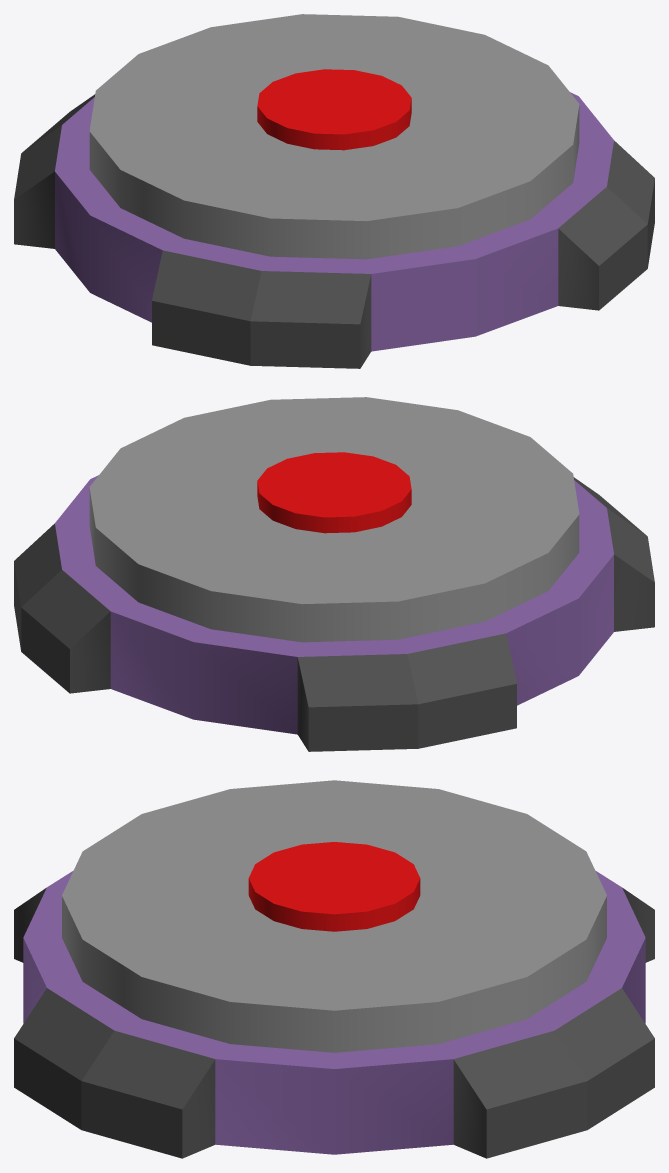
The model's file is Landmine.fbx.
3 renders of one model, top to bottom at view 1: azimuth 30°, elevation 25°; view 2: azimuth 150°, elevation 25°; view 3: azimuth 270°, elevation 25°, orthographic. The views are drawn at different scales.
Visible parts, largest first — view 1: Cylinder; view 2: Cylinder; view 3: Cylinder.
Boxes of the visible parts, x1,y1,x2,y2 form: Cylinder: (14, 14, 654, 368); Cylinder: (14, 397, 654, 751); Cylinder: (14, 780, 654, 1158).
Bounding box in the file's own units: 206 × 51.46 × 206.
